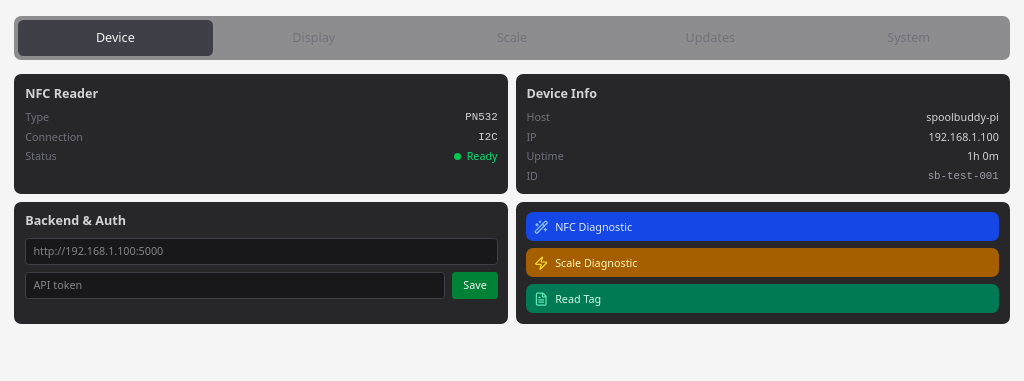
Test: SpoolBuddySettingsPage › saving the backend config › says a restart applies it and offers one
Type "http://10.0.0.5:8000" into the field with placeholder "http://192.168.1.100:5000" at (261, 251), box x1=25 y1=238 x2=498 y2=265
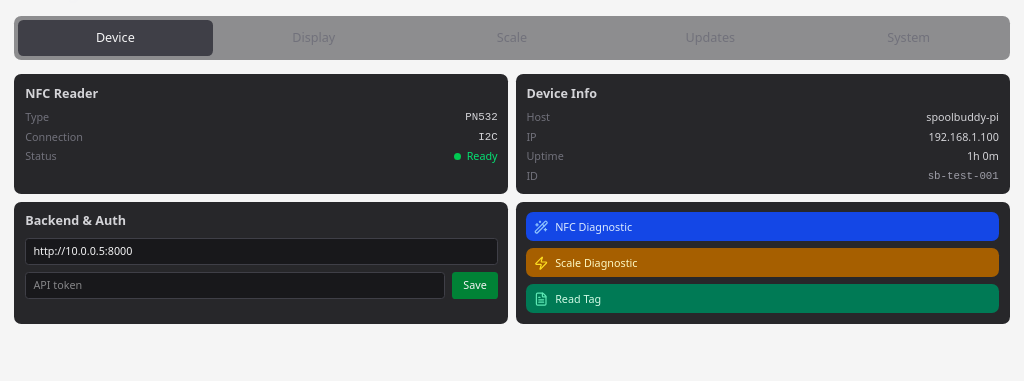
Click the button "Save" at (475, 286), box x1=452 y1=272 x2=498 y2=299
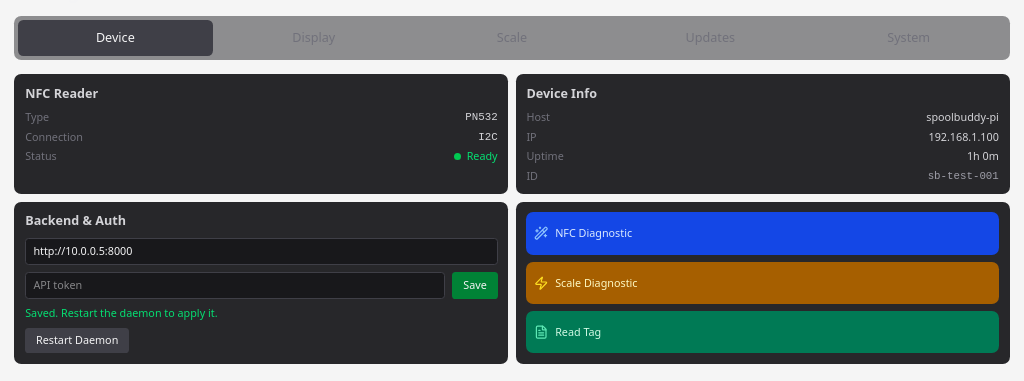
Now the text "Saved. Restart the daemon to apply it." is shown, box x1=25 y1=305 x2=218 y2=320
Click the button "Restart Daemon" at (77, 340), box x1=25 y1=328 x2=129 y2=353
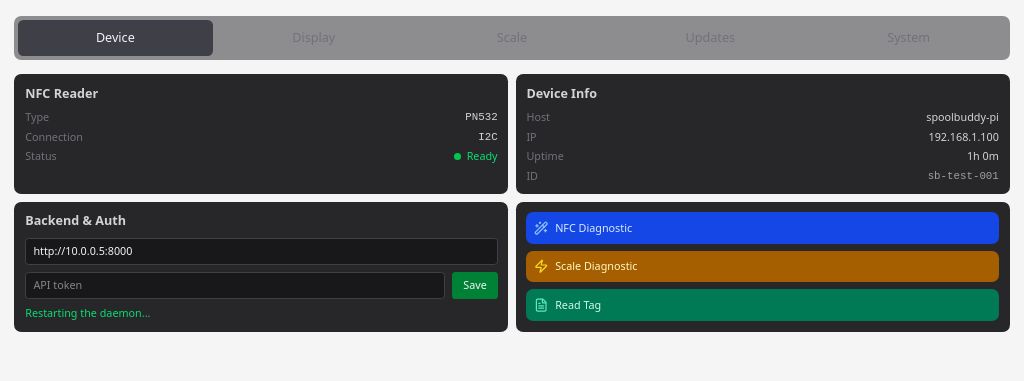
Now the text "Restarting the daemon..." is shown, box x1=25 y1=305 x2=150 y2=320
